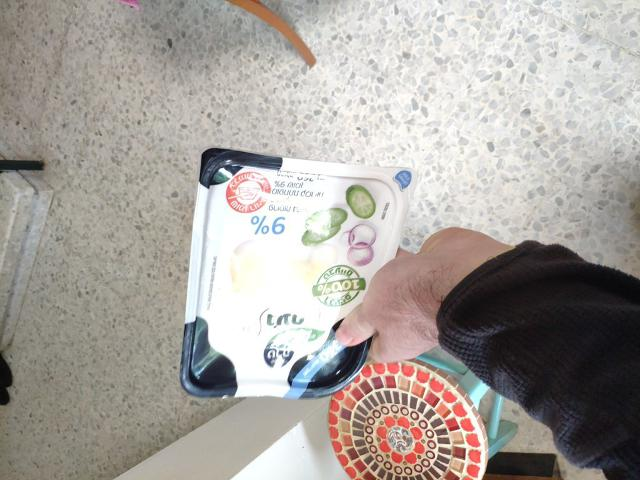cheese: (231, 148, 485, 394)
